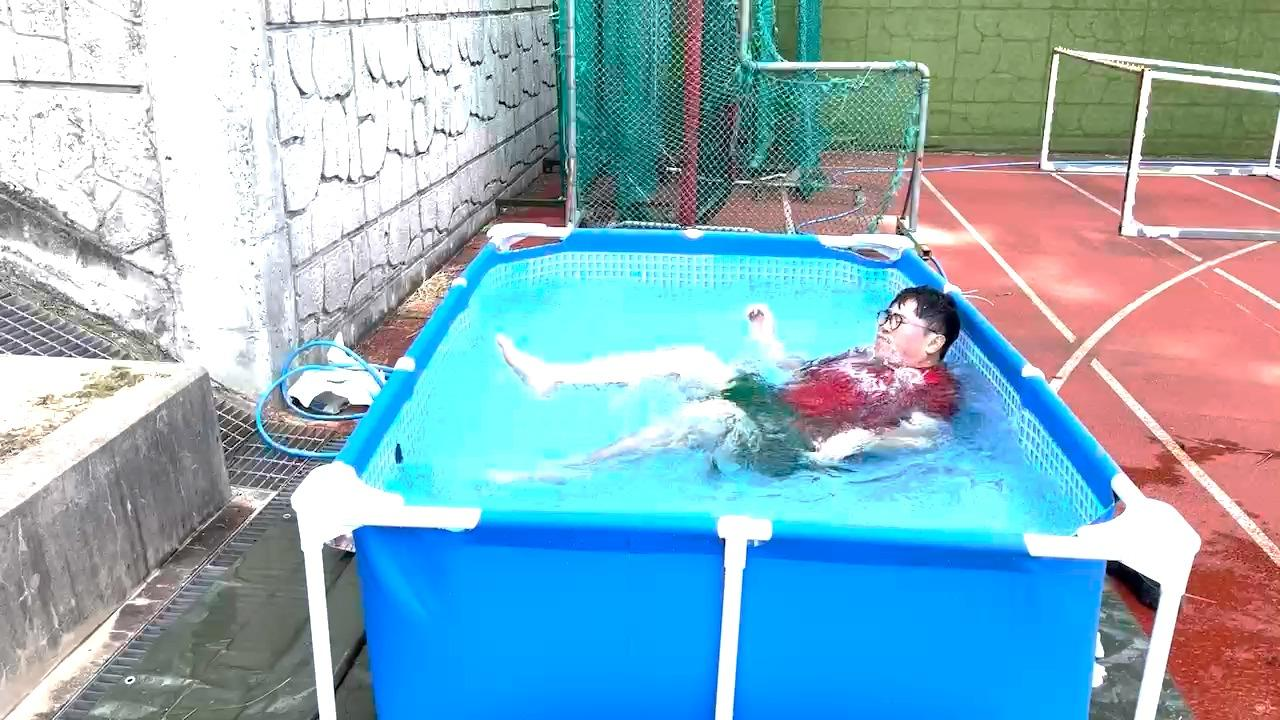Drowning: (528, 285, 985, 468)
